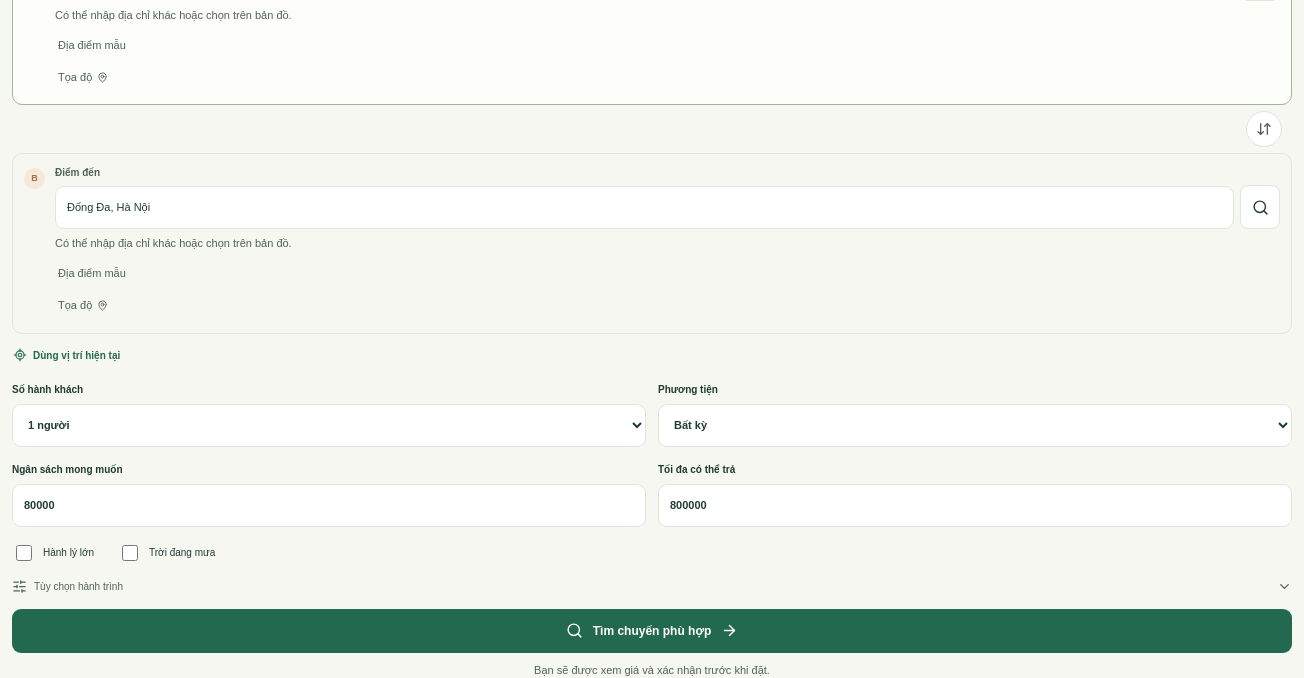
it: acceptance regressions › discards a late search response when the passenger edits the intent
This screenshot has width=1304, height=678.
(page scrolled)
Step 1. Click the button "Tìm chuyến phù hợp" → (652, 630), box [12,608,1292,652]
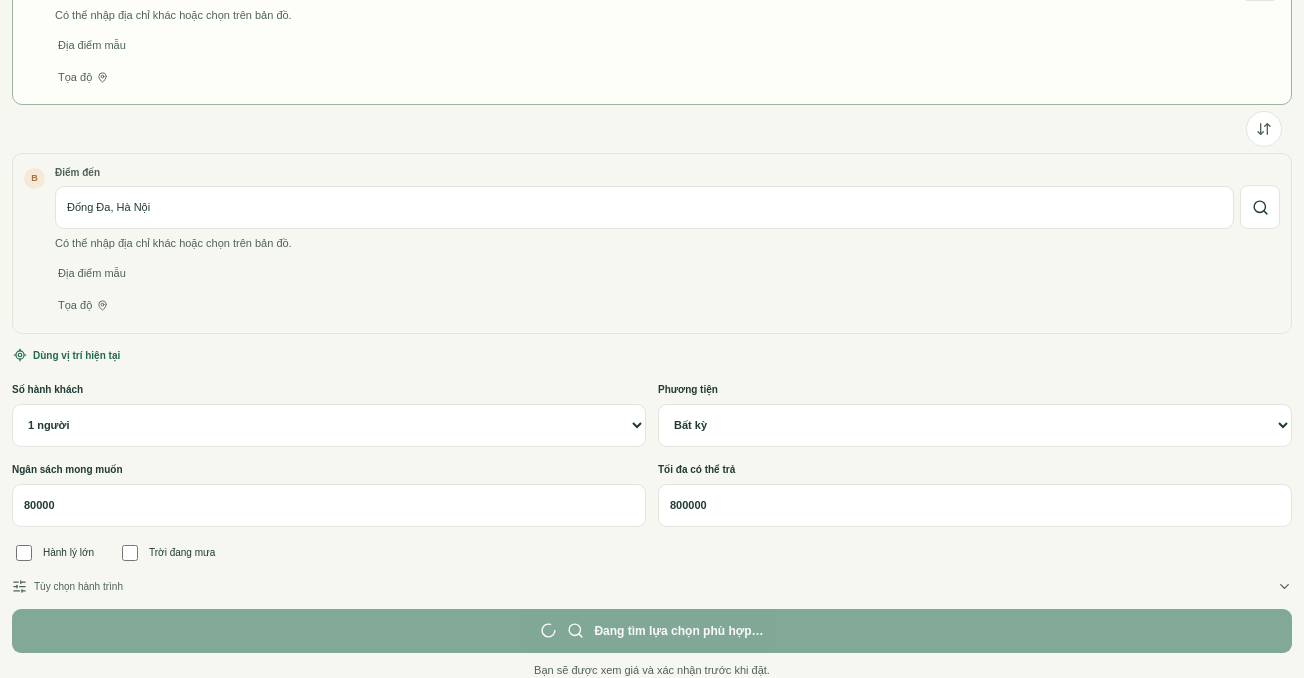
Step 2. Replace the text in the number field labelled "Tối đa có thể trả" with "900000" → (975, 505), box [658,484,1292,526]
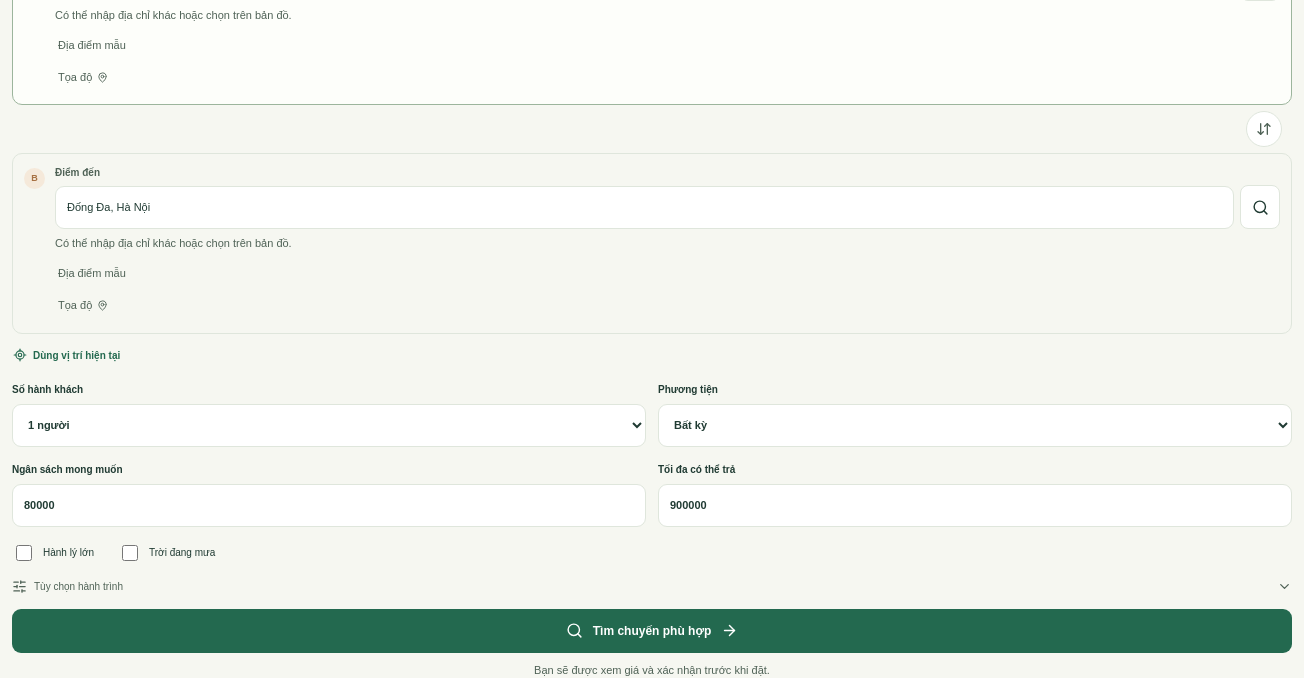
Result: the button "Tìm chuyến phù hợp" is enabled at [12,608,1292,652]
